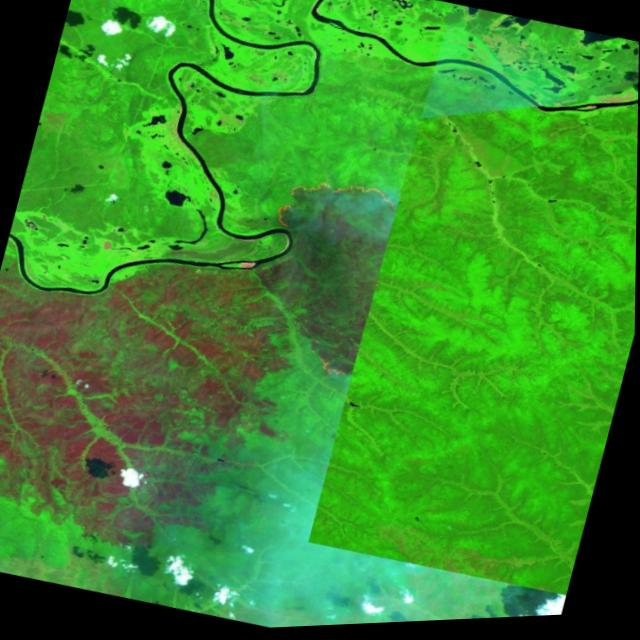fire: (261, 161, 410, 264)
